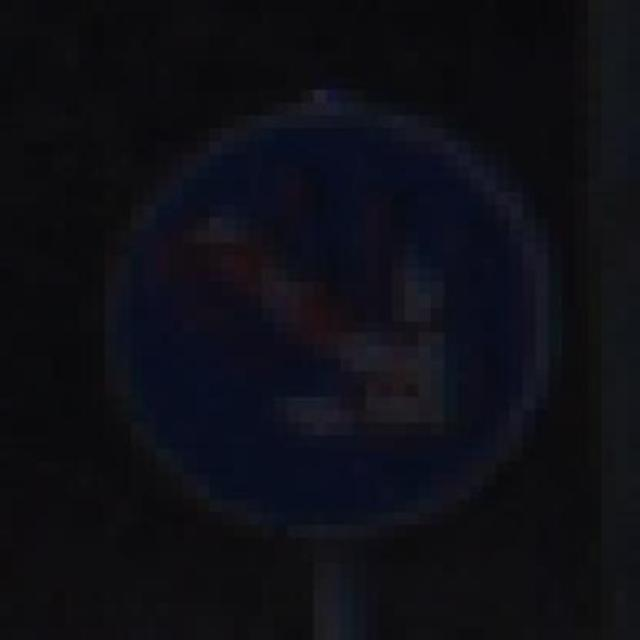Keep-Right: (65, 90, 588, 576)
